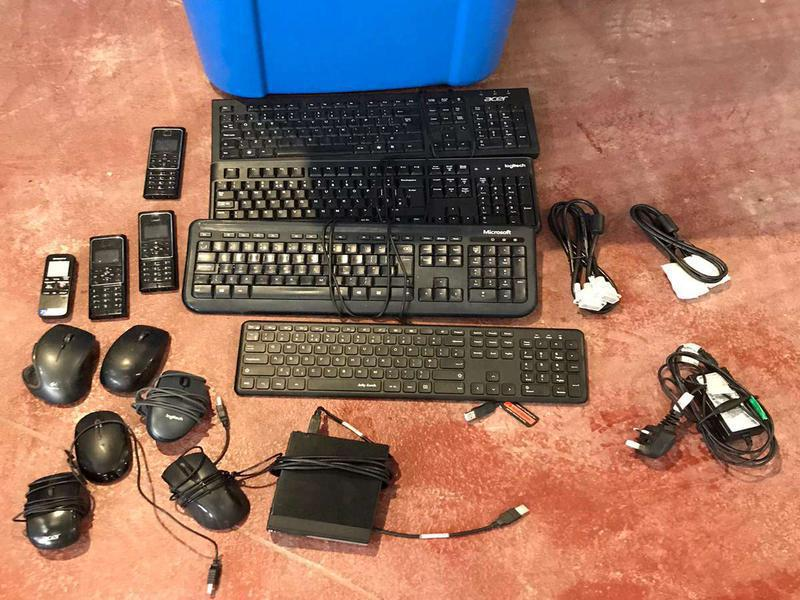keyboard: (181, 220, 544, 319), (230, 319, 595, 405), (202, 89, 545, 164), (201, 153, 543, 228)
mouse: (158, 452, 258, 534), (21, 321, 105, 409), (130, 368, 220, 448), (19, 469, 99, 557), (98, 322, 175, 398), (69, 409, 141, 487)
